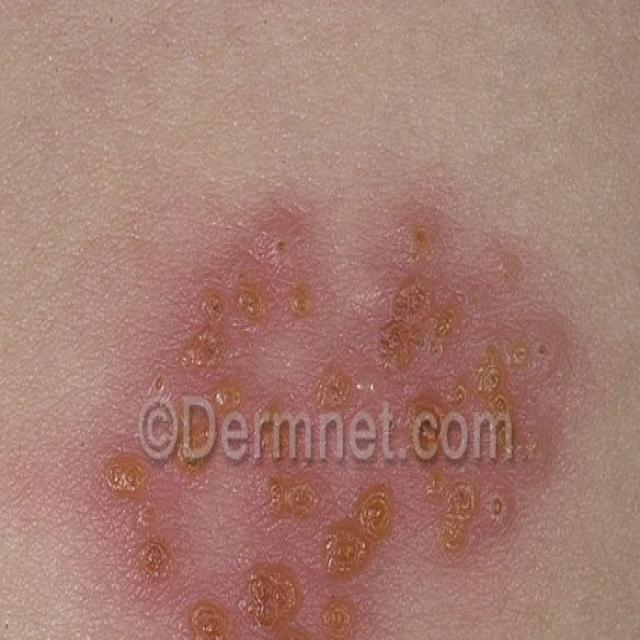Viral Infections: (57, 191, 610, 640)
